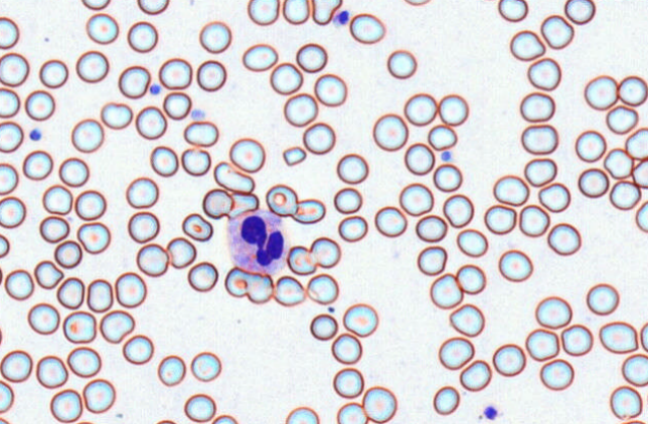GRAN: (226, 207, 291, 275)
PLT: (333, 9, 351, 28), (439, 150, 457, 163), (484, 405, 500, 419), (149, 81, 162, 95), (30, 128, 44, 141)
RBC: (361, 385, 397, 423), (372, 113, 408, 151), (229, 137, 265, 173), (534, 295, 572, 329), (598, 321, 638, 353), (342, 302, 378, 337), (583, 74, 618, 110), (283, 92, 318, 127), (438, 336, 474, 370), (448, 303, 484, 337), (429, 272, 462, 309), (99, 309, 134, 343), (540, 14, 574, 49), (492, 174, 529, 206), (114, 271, 146, 308), (520, 123, 558, 154), (269, 61, 303, 95), (399, 182, 433, 216), (403, 92, 437, 126), (82, 378, 115, 413), (498, 249, 533, 282), (509, 29, 545, 61), (349, 12, 385, 44), (609, 385, 642, 419), (49, 388, 82, 422), (525, 328, 559, 361), (492, 343, 526, 376), (527, 57, 561, 90), (62, 310, 96, 343), (76, 221, 110, 254), (313, 73, 347, 106), (71, 118, 104, 152), (547, 222, 581, 255), (539, 358, 574, 390), (519, 91, 555, 122), (265, 183, 298, 216), (35, 355, 68, 388), (302, 121, 335, 154), (560, 323, 593, 356), (136, 243, 169, 276), (586, 282, 619, 315), (135, 105, 167, 139), (75, 50, 109, 82), (158, 57, 192, 89), (442, 193, 474, 227), (66, 346, 101, 377), (0, 349, 32, 382), (125, 176, 158, 208), (127, 210, 159, 243), (374, 205, 407, 237), (574, 129, 606, 162), (27, 302, 60, 334), (118, 65, 150, 98), (199, 20, 231, 53), (459, 359, 491, 391), (85, 13, 118, 44), (518, 204, 549, 237), (523, 157, 557, 187), (242, 43, 278, 71), (309, 236, 340, 268), (332, 367, 364, 398), (273, 275, 305, 306), (331, 332, 362, 364), (306, 273, 338, 304), (336, 153, 368, 184), (577, 167, 609, 198), (127, 20, 158, 52), (74, 189, 106, 220), (605, 104, 638, 134), (404, 142, 434, 175), (438, 93, 468, 126), (483, 204, 516, 234), (0, 52, 29, 86), (187, 261, 218, 292), (455, 263, 486, 294), (58, 156, 89, 187), (22, 149, 53, 180), (24, 89, 55, 120), (166, 236, 196, 268), (603, 147, 633, 179), (609, 180, 641, 210), (4, 268, 34, 300), (538, 182, 570, 212), (295, 42, 327, 72), (196, 59, 226, 91), (183, 393, 216, 422), (183, 120, 218, 147), (202, 188, 233, 218), (122, 334, 153, 364), (416, 245, 447, 275), (190, 351, 221, 381), (386, 49, 417, 79), (181, 212, 213, 241), (157, 354, 186, 386), (456, 228, 488, 257), (56, 276, 84, 309), (86, 278, 113, 312), (286, 245, 316, 275), (33, 259, 63, 289), (42, 184, 72, 214), (38, 58, 68, 88), (149, 145, 178, 176), (618, 75, 647, 106), (100, 101, 132, 129), (415, 214, 447, 242), (621, 353, 648, 386), (181, 147, 211, 176), (245, 272, 273, 303), (292, 198, 325, 224), (433, 163, 462, 192), (39, 215, 69, 243), (0, 196, 26, 228), (309, 312, 338, 340), (54, 239, 82, 268), (162, 91, 191, 119), (333, 186, 362, 214), (432, 385, 459, 415), (427, 123, 457, 150), (337, 215, 367, 242), (247, 0, 279, 25), (311, 0, 341, 25), (224, 266, 248, 297), (564, 0, 595, 24), (625, 127, 648, 159), (0, 121, 23, 152), (336, 401, 367, 423), (497, 0, 528, 22), (282, 0, 309, 24), (0, 16, 19, 49), (0, 87, 20, 117), (285, 406, 319, 423), (0, 162, 18, 194), (137, 0, 169, 15), (0, 380, 14, 413), (632, 158, 647, 188), (635, 200, 648, 232), (81, 0, 110, 10), (639, 320, 648, 352), (211, 414, 238, 423), (0, 233, 9, 258), (403, 0, 431, 6), (619, 419, 646, 424), (154, 419, 178, 424), (74, 420, 97, 424), (0, 416, 10, 423), (0, 324, 3, 346), (477, 0, 498, 1)
Schistocyte: (214, 161, 256, 194), (228, 192, 259, 219), (281, 147, 308, 167)
